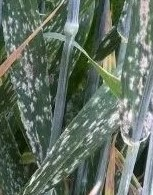Powdery Mildew: (4, 27, 51, 136)
